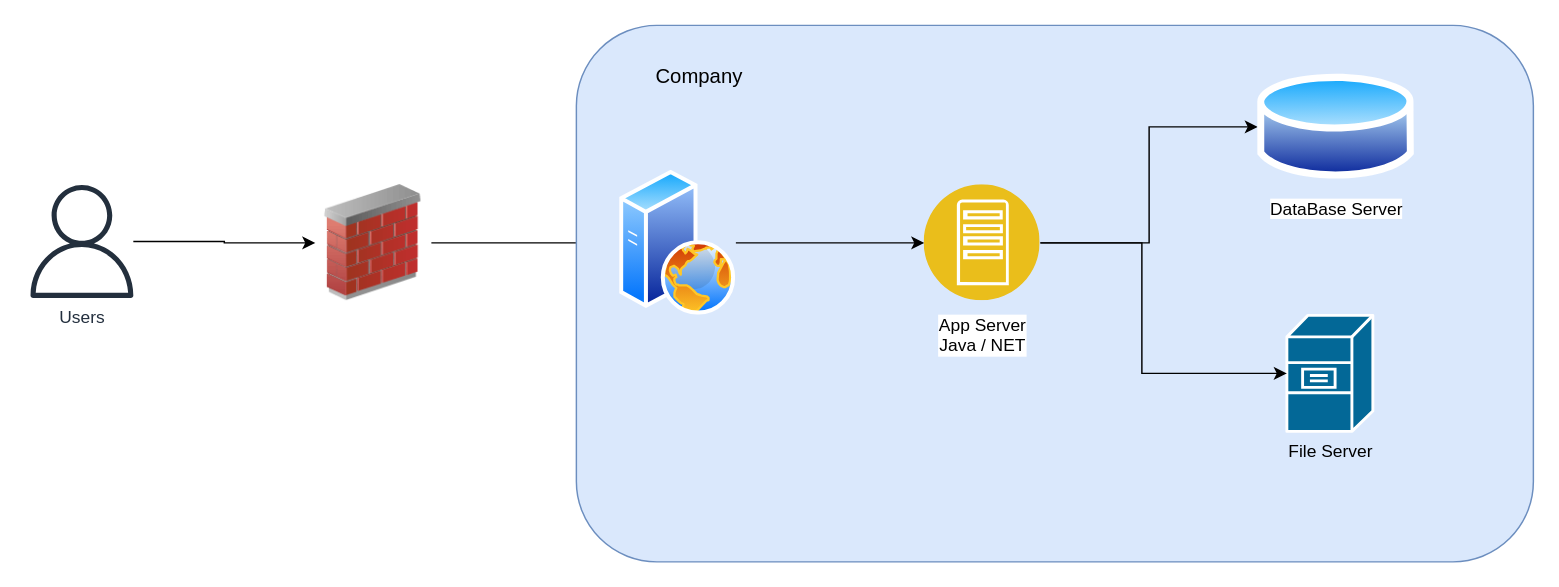
This 1559x587 diagram has some shape labels left out. Here are the shapes that lost their labels. From the top down, the centre of each, then its label:
At [373,242]: "Firewall Company".
At [677,242]: "Web Server".
